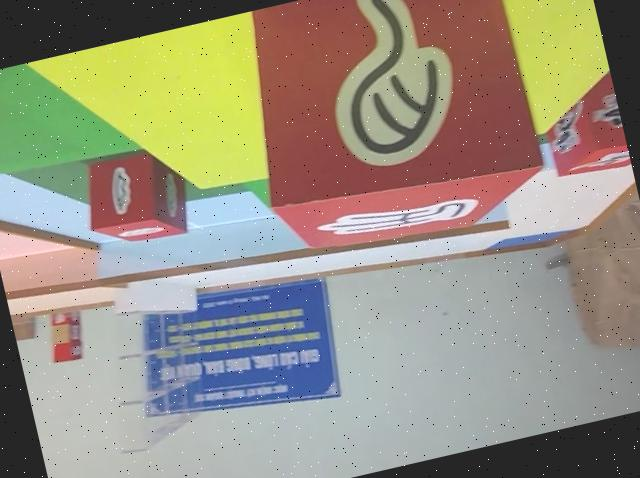R1: (532, 67, 631, 182)
R2 Fake: (225, 0, 557, 271)
R2 Real: (72, 139, 197, 255)
